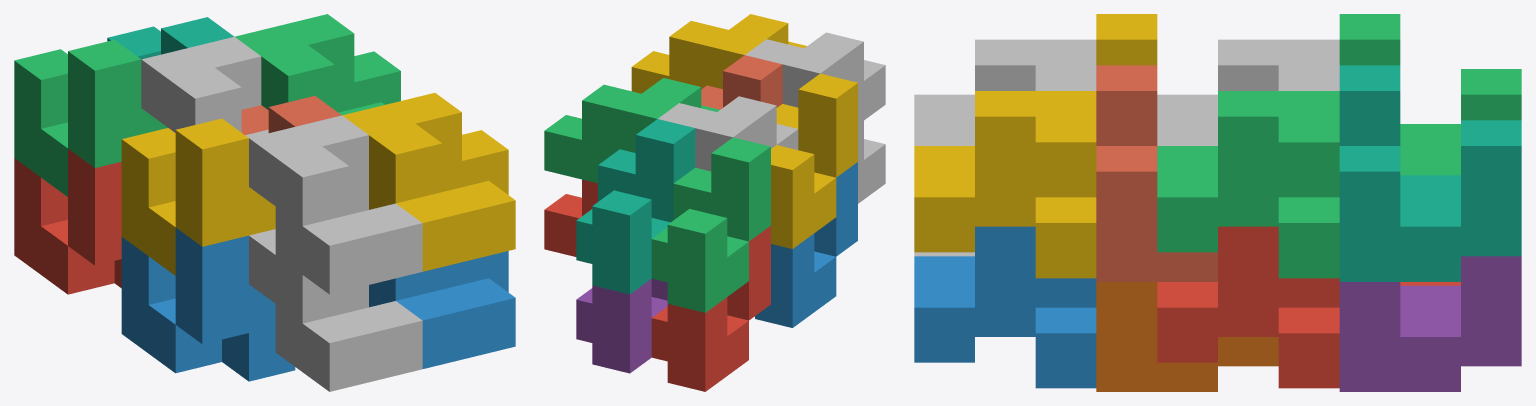
Rendered from tiling.obj.
3 renders of one model, left to right at view 1: azimuth 30°, elevation 25°; view 2: azimuth 150°, elevation 25°; view 3: azimuth 270°, elevation 25°, orthographic. The views are drawn at different scales.
Parts seen in each view (by area): view 1: copy_2_domain_4, copy_2_domain_8, copy_1_domain_2, copy_1_domain_4, copy_1_domain_3, copy_2_domain_2, copy_1_domain_1, copy_2_domain_6, copy_2_domain_7, copy_2_domain_3, copy_1_domain_7, copy_1_domain_8; view 2: copy_1_domain_3, copy_1_domain_7, copy_1_domain_4, copy_1_domain_1, copy_2_domain_7, copy_1_domain_2, copy_2_domain_8, copy_1_domain_5, copy_2_domain_4, copy_2_domain_3, copy_1_domain_8, copy_2_domain_5 (+1 smaller); view 3: copy_1_domain_7, copy_2_domain_7, copy_2_domain_8, copy_2_domain_6, copy_1_domain_5, copy_2_domain_5, copy_1_domain_8, copy_1_domain_6, copy_1_domain_3, copy_2_domain_3, copy_2_domain_4, copy_1_domain_4.
Boxes of the visible parts, box(x1,y1,x2,y2) form: copy_2_domain_4: box(249, 115, 422, 294); copy_2_domain_8: box(342, 93, 515, 271); copy_1_domain_2: box(121, 227, 295, 381); copy_1_domain_4: box(121, 118, 275, 275); copy_1_domain_3: box(14, 40, 167, 196); copy_2_domain_2: box(249, 229, 422, 391); copy_1_domain_1: box(14, 149, 121, 294); copy_2_domain_6: box(369, 251, 515, 368); copy_2_domain_7: box(235, 14, 400, 115); copy_2_domain_3: box(141, 36, 268, 137); copy_1_domain_7: box(107, 17, 233, 59); copy_1_domain_8: box(241, 96, 341, 135); copy_1_domain_3: box(651, 137, 770, 312); copy_1_domain_7: box(576, 119, 695, 294); copy_1_domain_4: box(771, 73, 857, 248); copy_1_domain_1: box(651, 226, 770, 391); copy_2_domain_7: box(544, 78, 719, 183); copy_1_domain_2: box(755, 162, 857, 327); copy_2_domain_8: box(631, 14, 806, 93); copy_1_domain_5: box(576, 278, 667, 373); copy_2_domain_4: box(745, 32, 885, 124); copy_2_domain_3: box(658, 96, 798, 171); copy_1_domain_8: box(701, 55, 782, 109); copy_2_domain_5: box(544, 179, 597, 256); copy_1_domain_7: box(1339, 65, 1521, 281); copy_2_domain_7: box(1157, 91, 1339, 278); copy_2_domain_8: box(914, 91, 1096, 278); copy_2_domain_6: box(914, 226, 1096, 388); copy_1_domain_5: box(1339, 256, 1521, 391); copy_2_domain_5: box(1157, 226, 1339, 388); copy_1_domain_8: box(1096, 65, 1217, 281); copy_1_domain_6: box(1096, 282, 1278, 391); copy_1_domain_3: box(1339, 14, 1521, 175); copy_2_domain_3: box(1157, 39, 1339, 145); copy_2_domain_4: box(914, 39, 1096, 145); copy_1_domain_4: box(1096, 14, 1157, 65).
Bounding box in the file's own units: 6 × 5 × 10.
